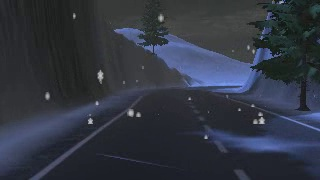Lane: (34, 86, 319, 179)
